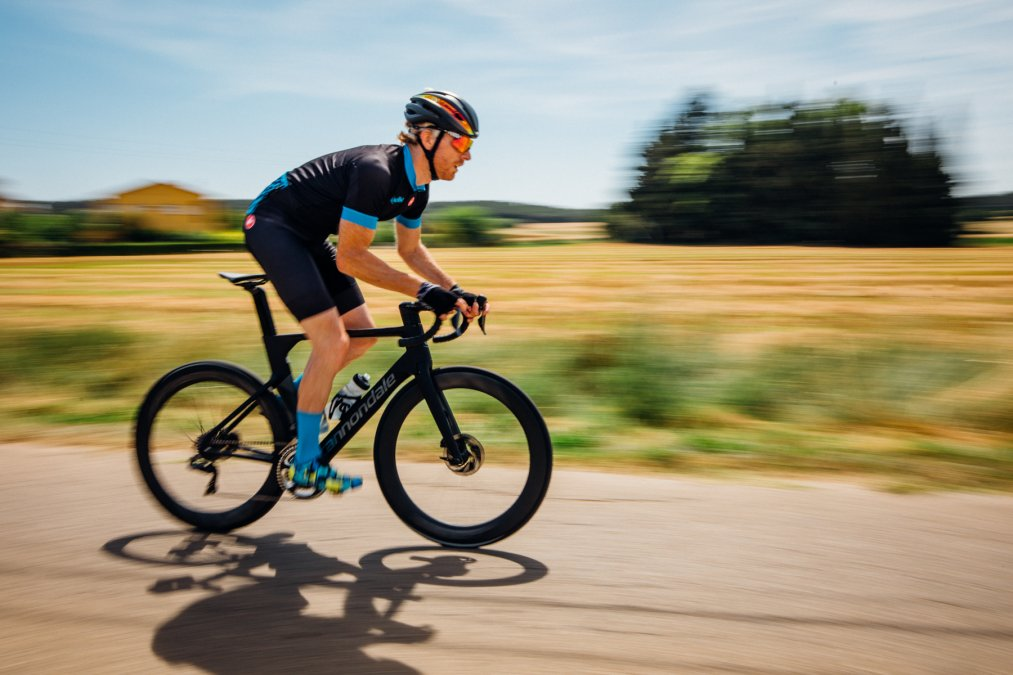helmet: (401, 85, 480, 136)
